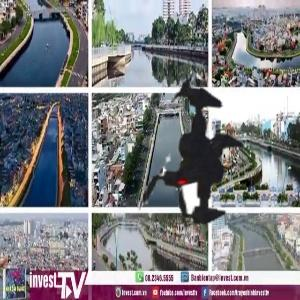drone: (74, 42, 299, 267)
